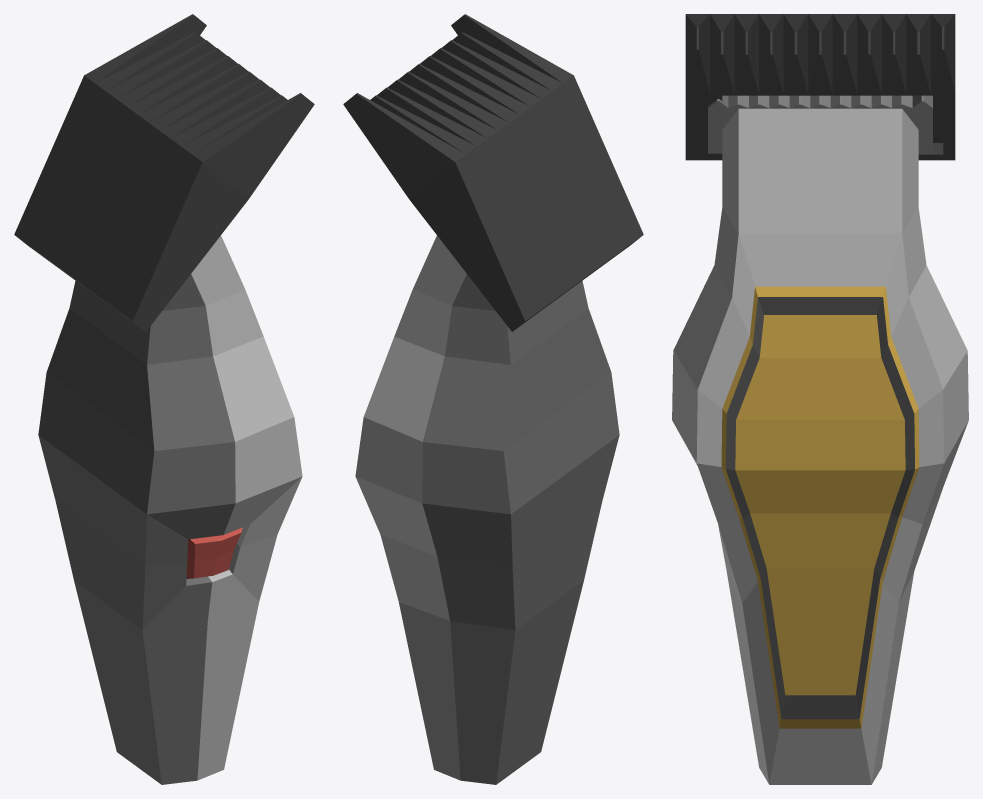
Rendered from Hair Clippers.fbx.
3 renders of one model, left to right at view 1: azimuth 30°, elevation 25°; view 2: azimuth 150°, elevation 25°; view 3: azimuth 270°, elevation 25°, orthographic. The views are drawn at different scales.
Parts seen in each view (by area): view 1: Hair Clippers, Clip Size 5, Clip Size 3, Clip Size 4; view 2: Hair Clippers, Clip Size 5, Clip Size 3, Clip Size 4, Clip Size 2; view 3: Hair Clippers, Clip Size 5, Clip Size 4, Clip Size 3.
Boxes of the visible parts, x1,y1,x2,y2 form: Hair Clippers: (38, 235, 302, 784); Clip Size 5: (14, 14, 314, 331); Clip Size 3: (141, 178, 247, 309); Clip Size 4: (148, 175, 247, 303); Hair Clippers: (355, 235, 619, 784); Clip Size 5: (343, 14, 643, 331); Clip Size 3: (410, 179, 524, 330); Clip Size 4: (409, 174, 524, 331); Clip Size 2: (411, 184, 521, 330); Hair Clippers: (672, 95, 968, 784); Clip Size 5: (685, 14, 955, 160); Clip Size 4: (687, 63, 954, 94); Clip Size 3: (688, 70, 954, 94).
Size of the model in its own units: 48.08 by 169 by 58.08.
